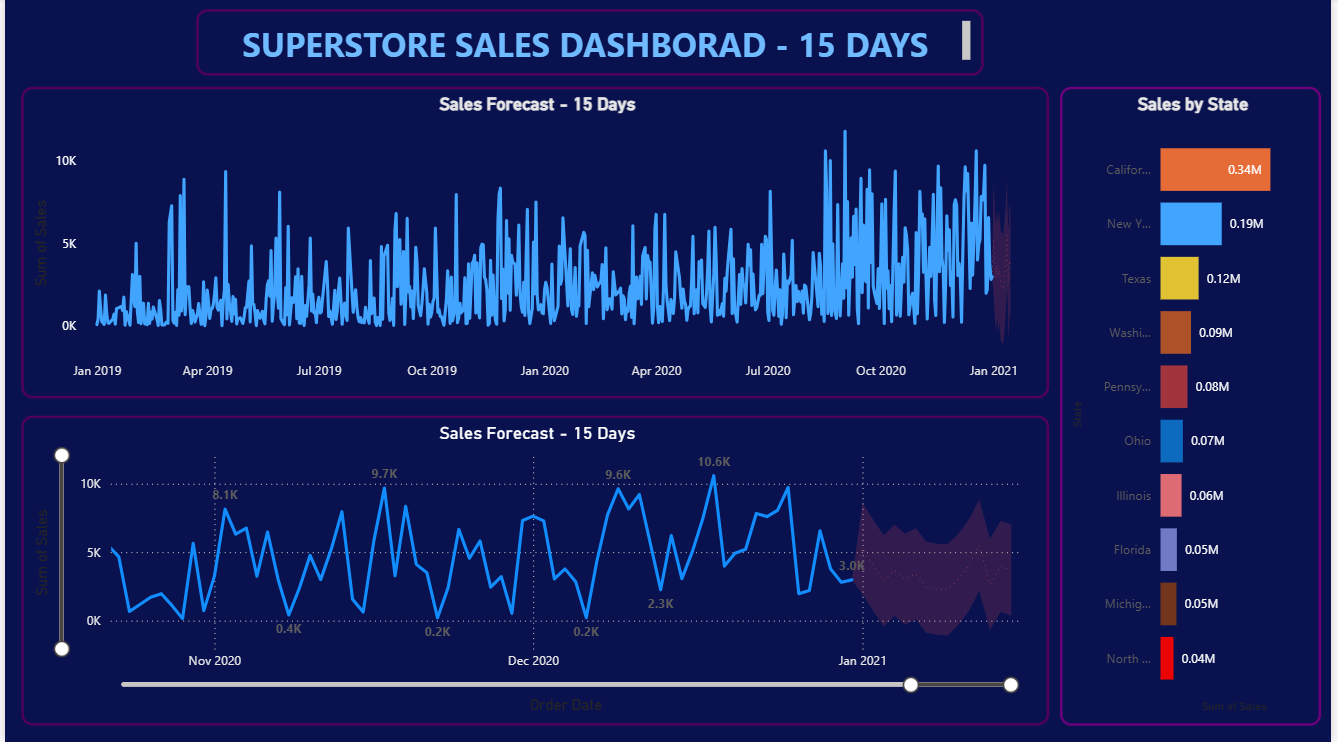

Layout of this report page (visuals, bound fields, positions):
{"tool":"powerbi","page":{"name":"Page 2","canvas":[1280,720],"ordinal":1},"visuals":[{"type":"lineChart","title":"Sales Forecast - 15 Days","fields":{"Y":["Sum(SuperStore_Sales_Dataset.Sales)"],"Category":["SuperStore_Sales_Dataset.Order Date"]},"box":[15.7,85.7,991.7,300.4],"z":0},{"type":"lineChart","title":"Sales Forecast - 15 Days","fields":{"Y":["Sum(SuperStore_Sales_Dataset.Sales)"],"Category":["SuperStore_Sales_Dataset.Order Date"]},"box":[15.7,403,991.7,299.2],"z":1000},{"type":"textbox","box":[184.6,10.9,760.1,60],"z":2000},{"type":"clusteredBarChart","title":"Sales by State","fields":{"Y":["Sum(SuperStore_Sales_Dataset.Sales)"],"Category":["SuperStore_Sales_Dataset.State"]},"box":[1018.2,85.7,252.1,616.5],"z":3000}]}

Visuals, with their boxes in screenshot pixels (x1, y1, x2, y2), scaled from the page's 1280x720 canvas onto the 1338x742 screenshot:
"Sales Forecast - 15 Days" lineChart: bbox=(16, 88, 1053, 398)
"Sales Forecast - 15 Days" lineChart: bbox=(16, 415, 1053, 724)
textbox: bbox=(193, 11, 988, 73)
"Sales by State" clusteredBarChart: bbox=(1064, 88, 1328, 724)
